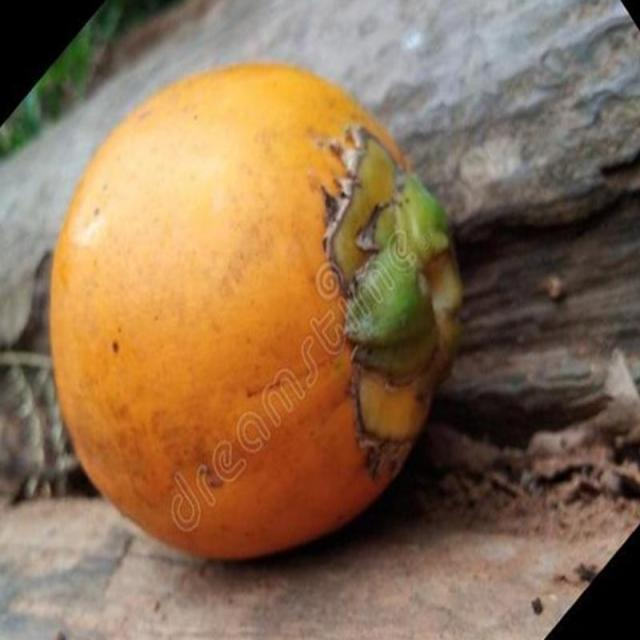good: (44, 61, 464, 567)
